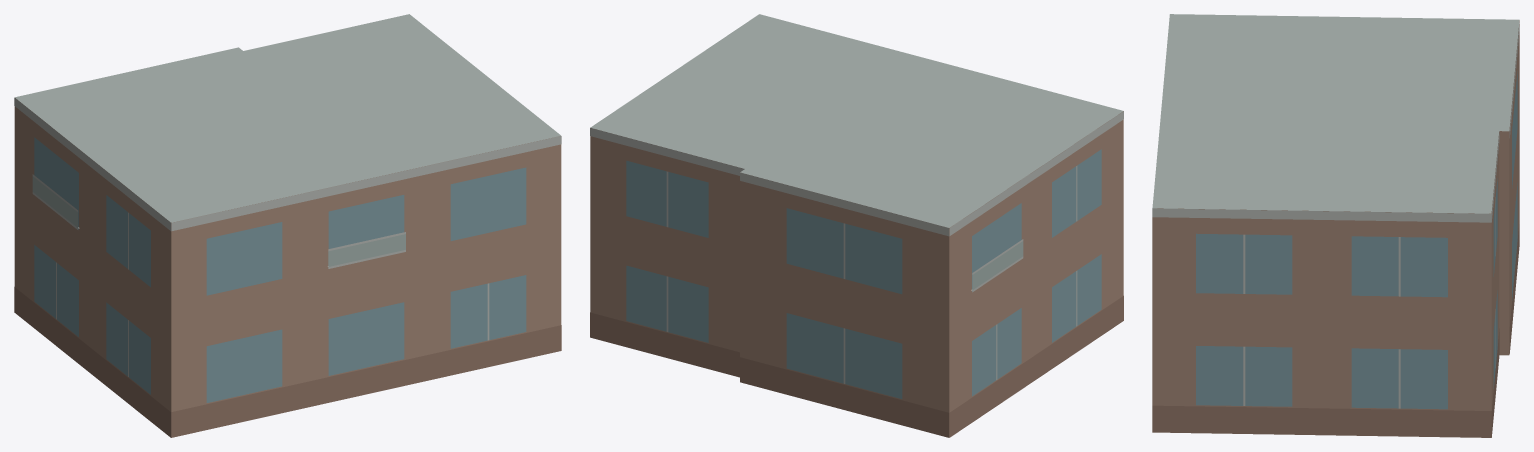
The model's file is survey-upis-32837855.glb.
The picture shows the model from 3 angles, left to right: view 1: azimuth 30°, elevation 25°; view 2: azimuth 150°, elevation 25°; view 3: azimuth 270°, elevation 25°; orthographic projection. The views are drawn at different scales.
Parts seen in each view (by area): view 1: survey-upis-32837855.tmp; view 2: survey-upis-32837855.tmp; view 3: survey-upis-32837855.tmp.
Boxes of the visible parts, x1,y1,x2,y2 form: survey-upis-32837855.tmp: [14, 14, 561, 437]; survey-upis-32837855.tmp: [590, 14, 1123, 437]; survey-upis-32837855.tmp: [1152, 14, 1519, 437].
Bounding box in the file's own units: 11.67 × 6.1 × 9.07.
